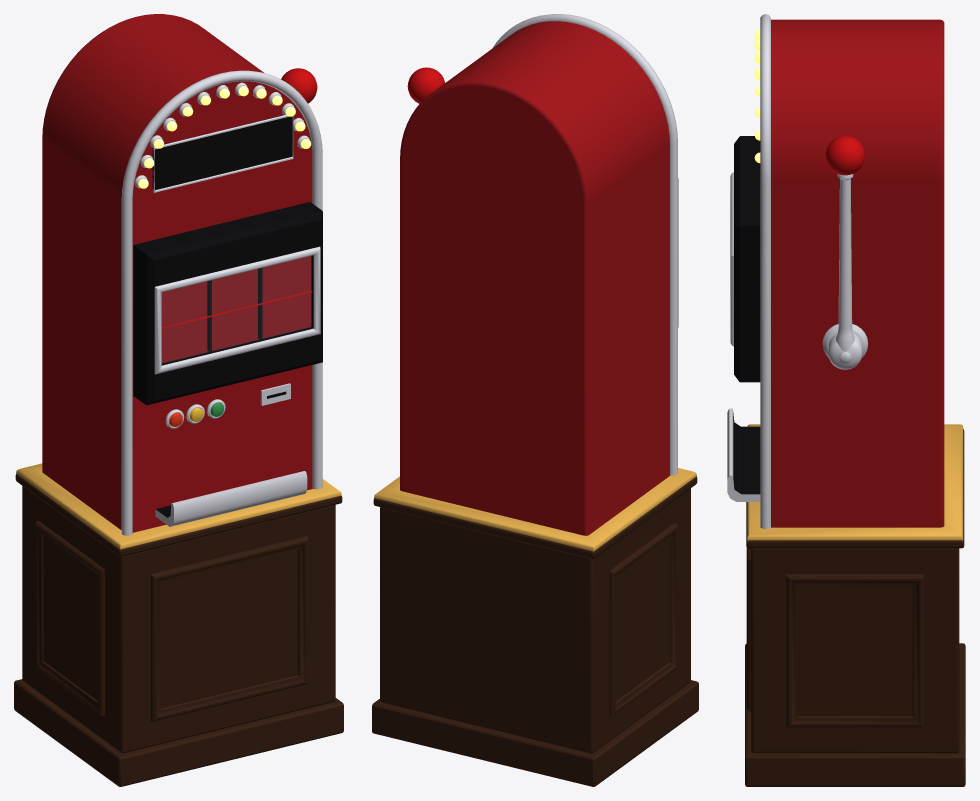
File: slot_machine.glb
3 views of the same model, side by side, from view 1: azimuth 30°, elevation 25°; view 2: azimuth 150°, elevation 25°; view 3: azimuth 270°, elevation 25° (orthographic). The views are drawn at different scales.
Visible parts, largest first — view 1: Gehaeuse, Sockel, Chromteile, Fensterhaube, Sockel_Zierrahmen, Schild, Sockelleiste, Hebel_Knauf; view 2: Gehaeuse, Sockel, Sockelleiste, Chromteile, Sockel_Zierrahmen, Hebel_Knauf; view 3: Gehaeuse, Sockel, Chromteile, Sockel_Zierrahmen, Fensterhaube, Sockelleiste, Hebel_Chrom, Schale_Innen, Hebel_Knauf.
Boxes of the visible parts, <box> form: Gehaeuse: <box>42,14,312,532</box>; Sockel: <box>14,474,343,786</box>; Chromteile: <box>121,70,322,535</box>; Fensterhaube: <box>133,202,322,405</box>; Sockel_Zierrahmen: <box>35,520,308,721</box>; Schild: <box>152,115,292,190</box>; Sockelleiste: <box>16,463,341,549</box>; Hebel_Knauf: <box>281,68,317,103</box>; Gehaeuse: <box>400,21,670,535</box>; Sockel: <box>372,476,698,786</box>; Sockelleiste: <box>374,468,696,551</box>; Chromteile: <box>492,14,677,475</box>; Sockel_Zierrahmen: <box>609,523,677,716</box>; Hebel_Knauf: <box>407,67,444,103</box>; Gehaeuse: <box>771,19,944,527</box>; Sockel: <box>745,429,965,786</box>; Chromteile: <box>727,14,868,528</box>; Sockel_Zierrahmen: <box>746,547,924,727</box>; Fensterhaube: <box>734,136,760,382</box>; Sockelleiste: <box>747,424,963,540</box>; Hebel_Chrom: <box>828,174,862,369</box>; Schale_Innen: <box>733,413,760,494</box>; Hebel_Knauf: <box>825,136,865,175</box>.
Size of the model in its own units: 0.5895 by 1.57 by 0.4805.
